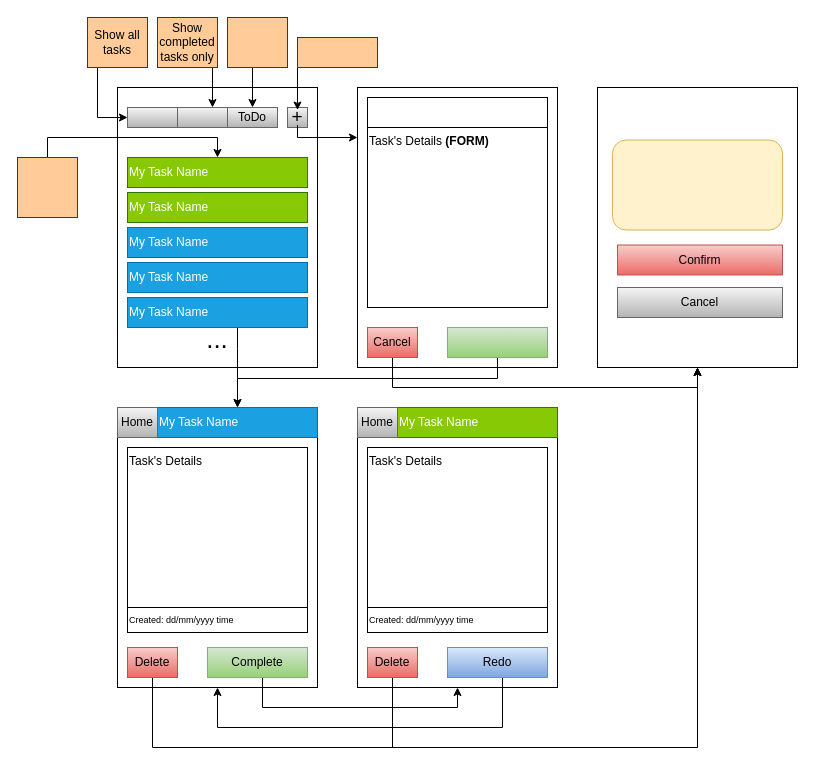
Some shapes in this 815 by 773 pixel diagram are drawn without their labels. The shapes that lost their labels are listed below. From the top down, each one's box as (x1, y1, x2, y2) in pixels, then its label:
(226, 16, 288, 68): Show unfinished tasks only
(296, 36, 378, 68): Add new task
(126, 106, 178, 128): All
(176, 106, 228, 128): Done
(366, 96, 548, 128): My Task Name (FORM)
(16, 156, 78, 218): Scrollable Items (Vertically)
(612, 139, 782, 230): Confirm Action Popup
(446, 326, 548, 358): Create
